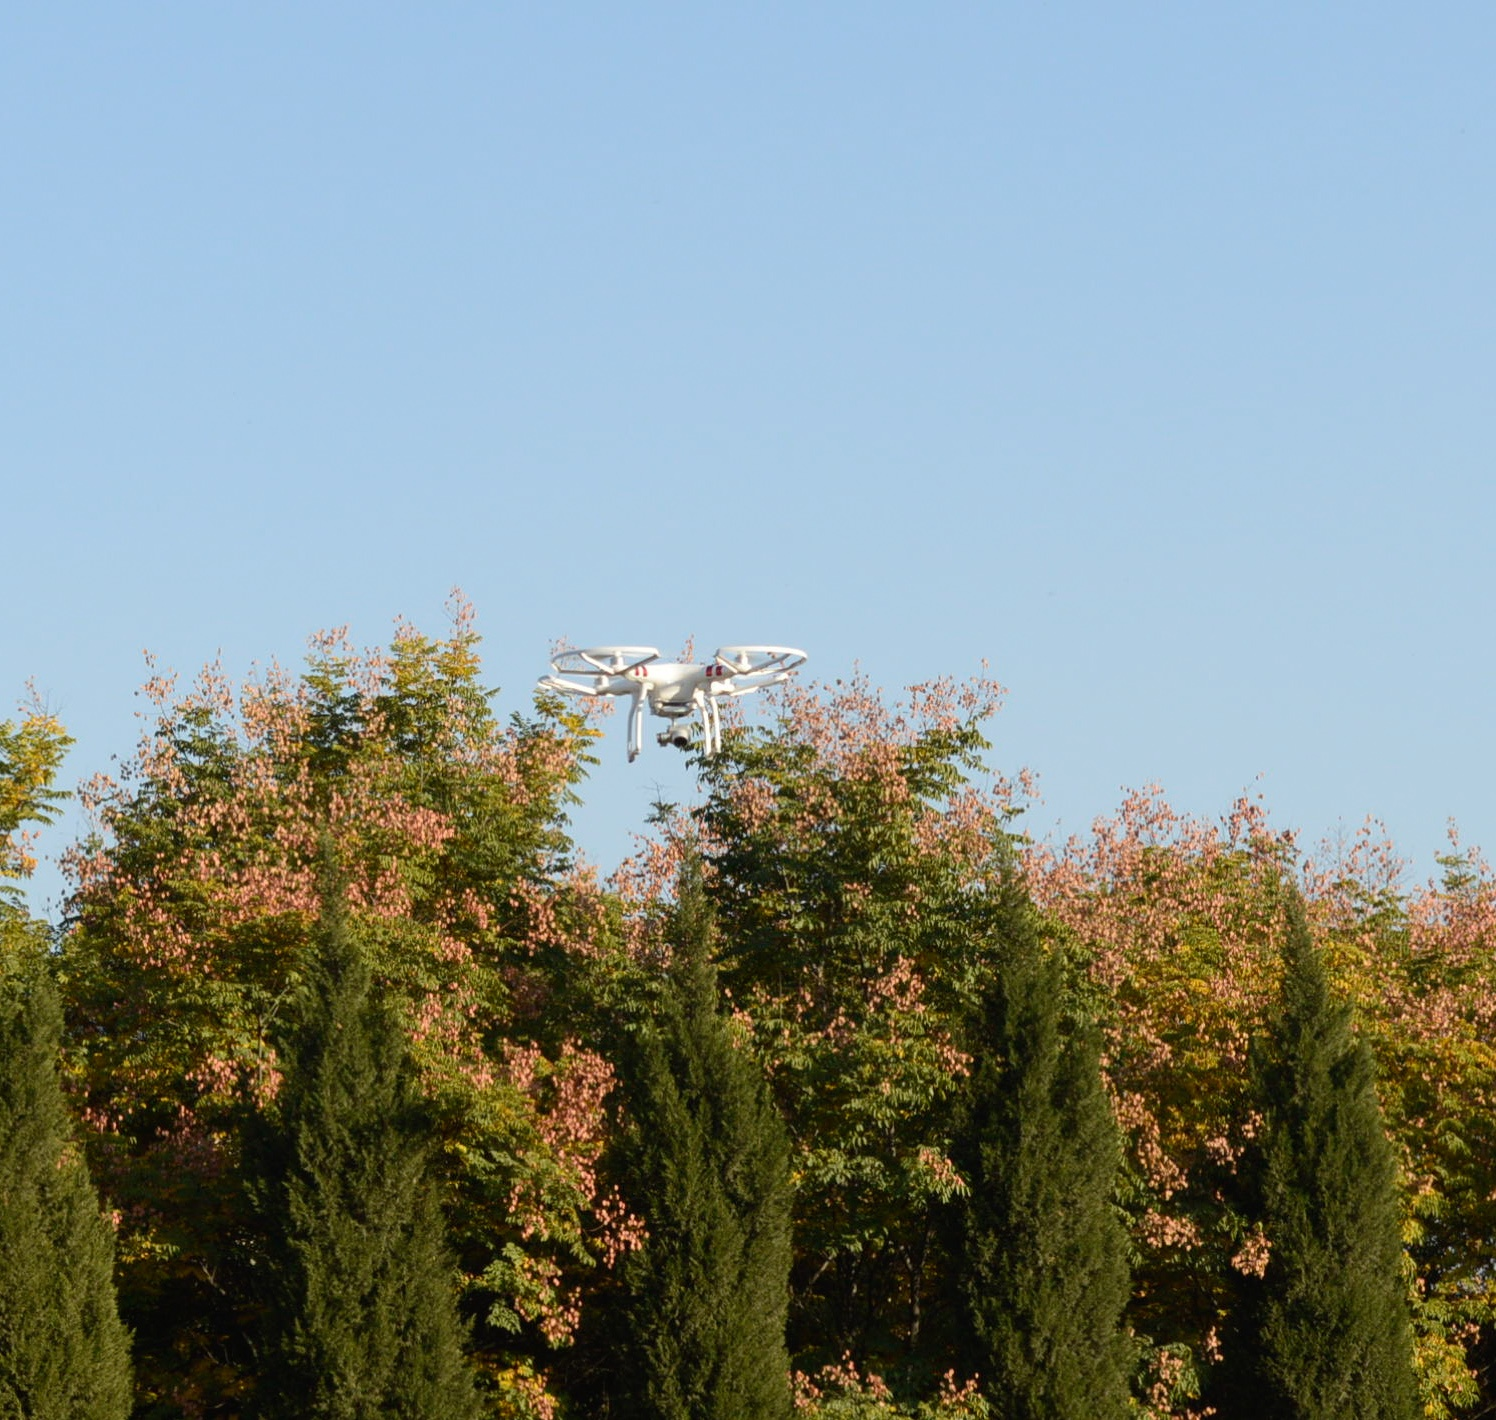DJI: (532, 641, 815, 769)
